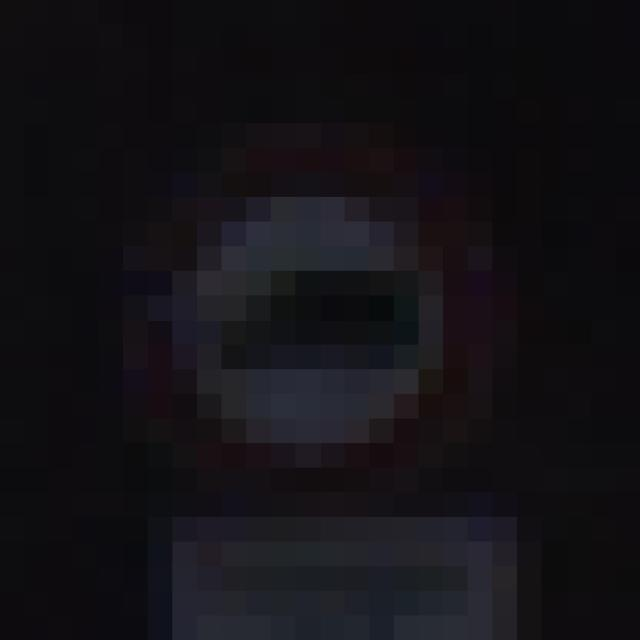Truck traffic is prohibited: (71, 80, 514, 523)
